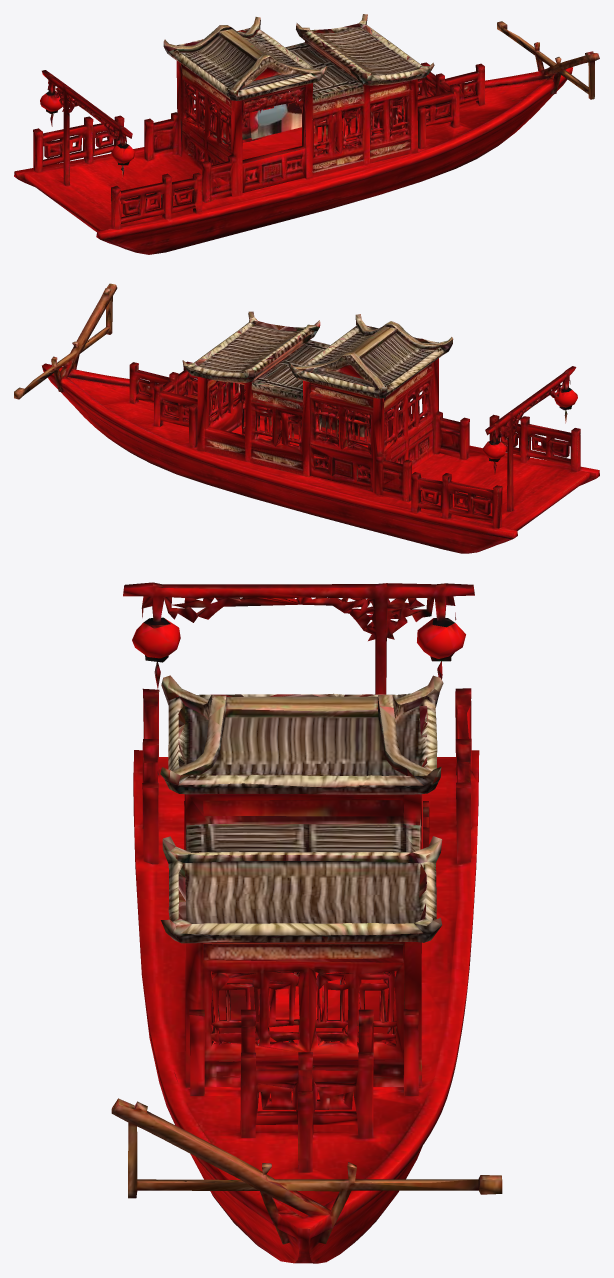
Rendered from huafang.glb.
3 views of the same model, one above another, from view 1: azimuth 30°, elevation 25°; view 2: azimuth 150°, elevation 25°; view 3: azimuth 270°, elevation 25° (orthographic). The views are drawn at different scales.
Visible parts, largest first — view 1: huafang; view 2: huafang; view 3: huafang.
Boxes of the visible parts, bbox=[...] form: huafang: bbox=[14, 14, 599, 254]; huafang: bbox=[14, 283, 599, 553]; huafang: bbox=[111, 582, 502, 1263].
Size of the model in its own units: 1 by 0.2965 by 0.3289.
Materials: 1 (1 with a texture image).
